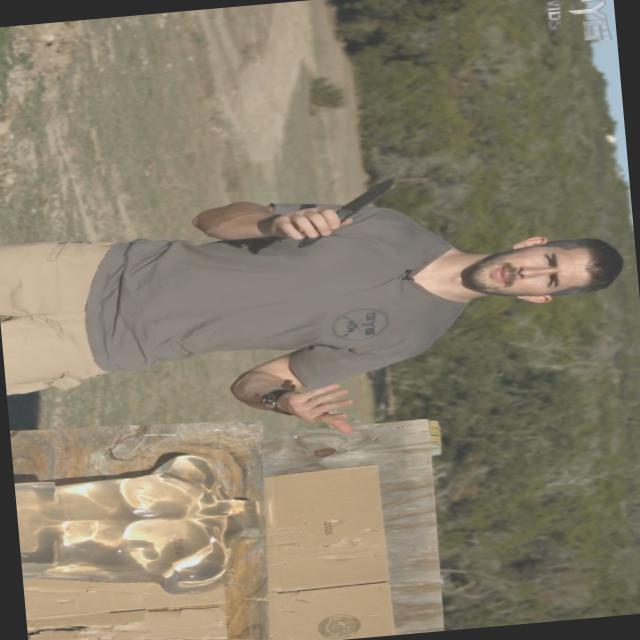knife: (276, 167, 408, 241)
